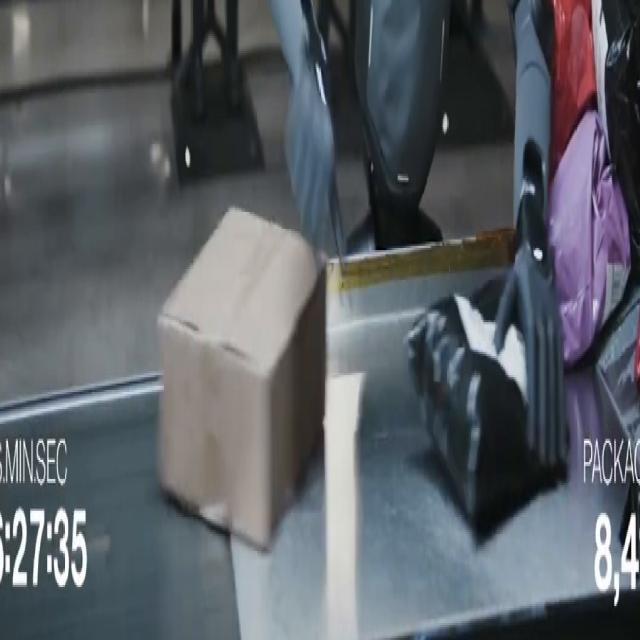package: (158, 210, 326, 548), (406, 278, 567, 534), (548, 111, 630, 366), (592, 0, 639, 279), (550, 0, 596, 180), (597, 284, 639, 451)
